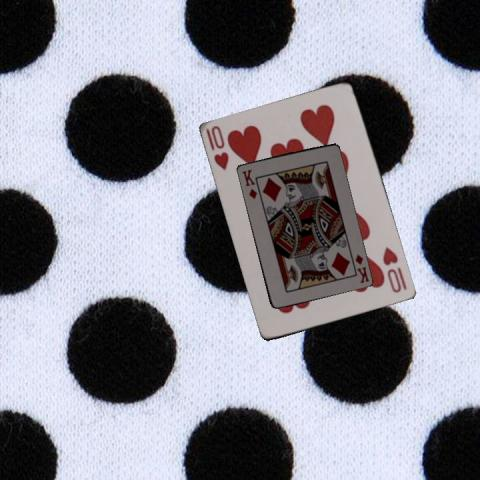10h: (380, 243, 409, 295), (203, 123, 231, 172)
Kd: (239, 166, 258, 201), (352, 251, 371, 285)
